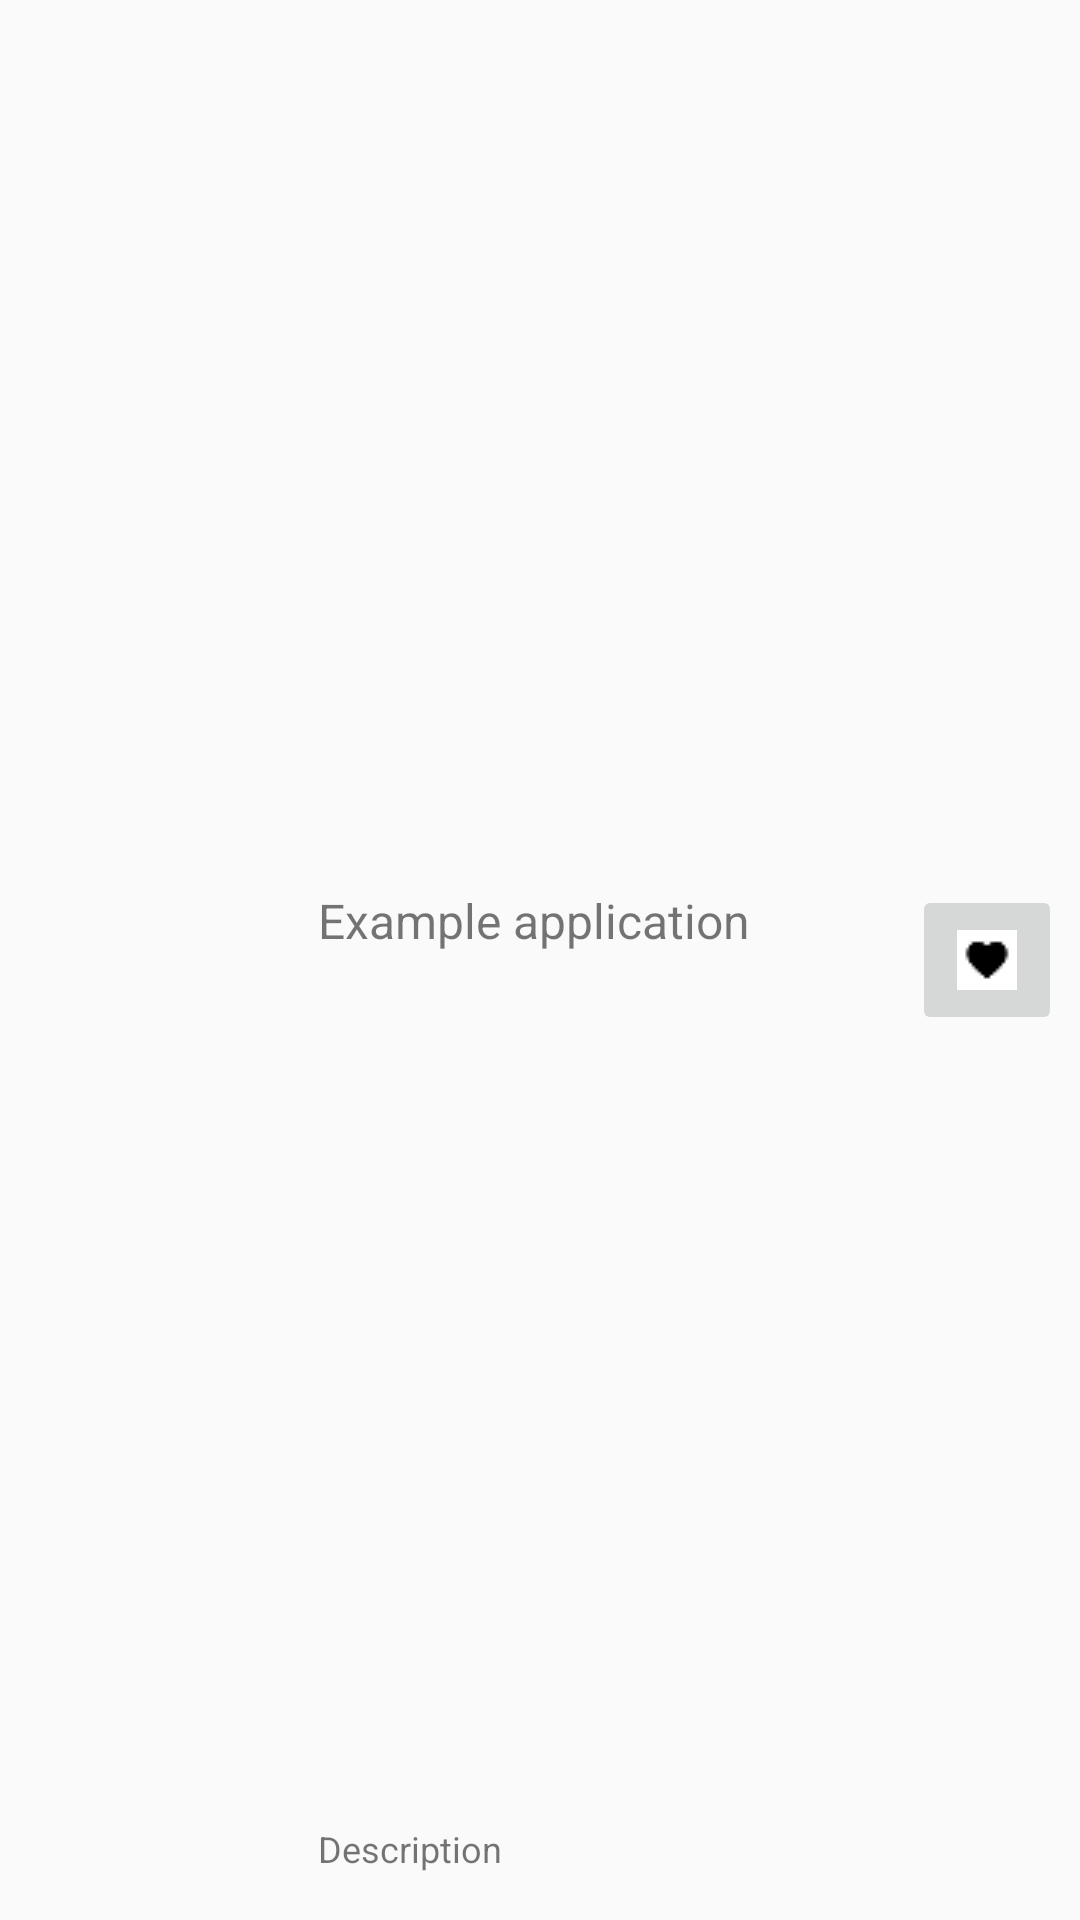

Locate icon controls on the screen. Image size 1080px x 1920px, boxes as (x1, y1, x2, y2).
WISH: (924, 903, 1050, 1017)
